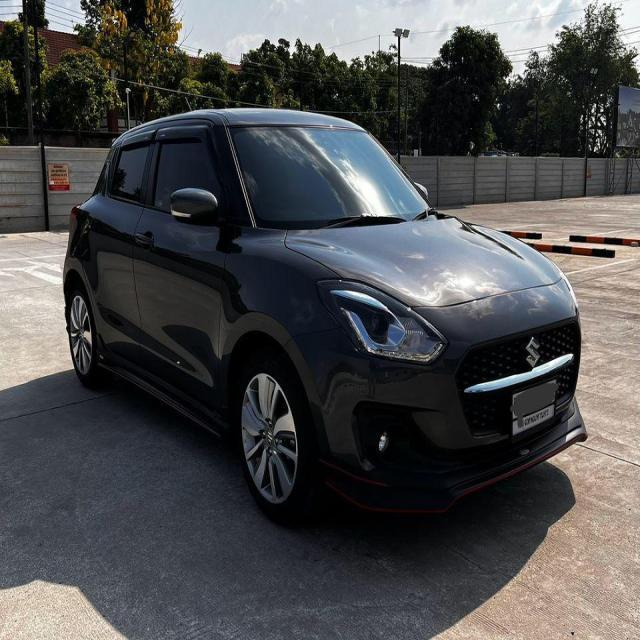Hatchback: (64, 111, 587, 524)
